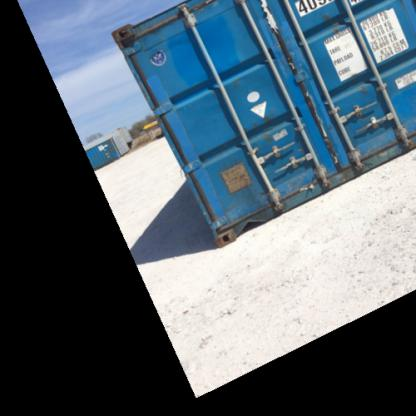Damage: (267, 174, 329, 202), (254, 0, 284, 36), (346, 149, 404, 166), (213, 211, 253, 235)
